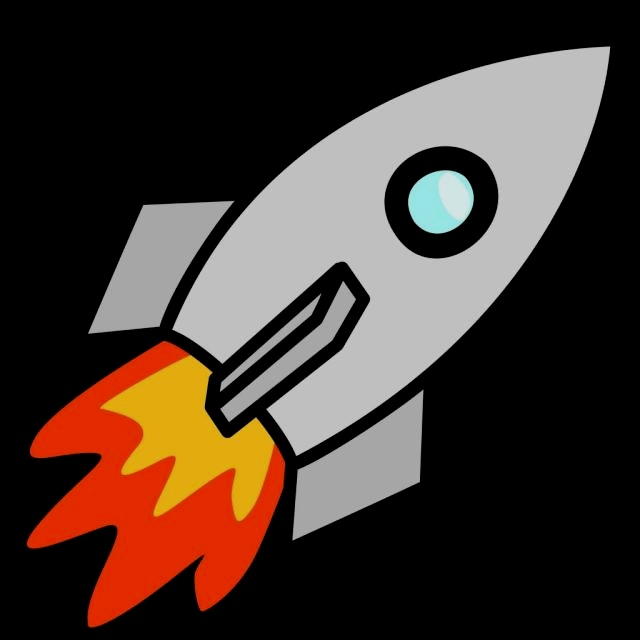medium_debris: (14, 358, 321, 624)
